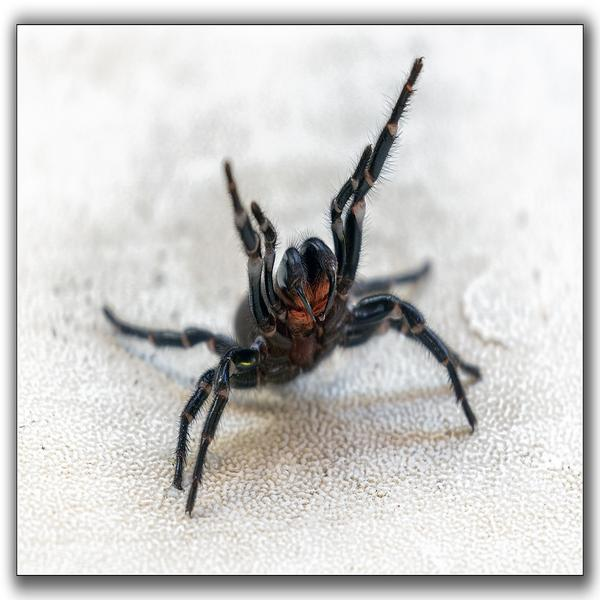Funnel Web Spider: (117, 64, 486, 520)
